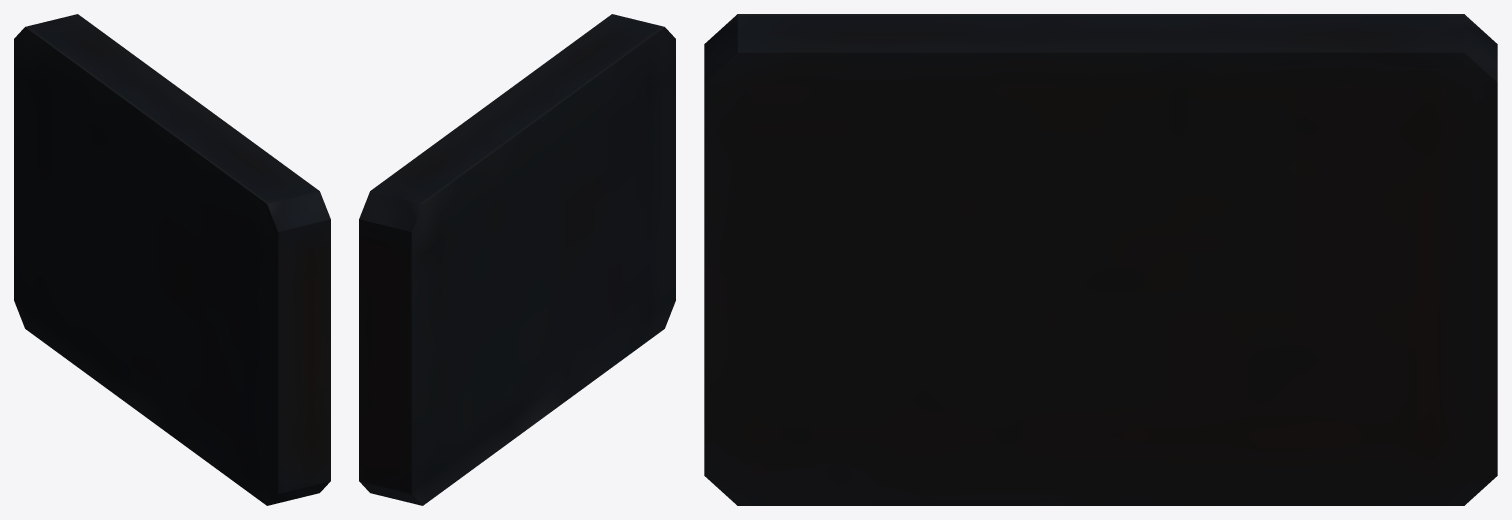
Rendered from Monitor.FBX.
The picture shows the model from 3 angles, left to right: view 1: azimuth 30°, elevation 25°; view 2: azimuth 150°, elevation 25°; view 3: azimuth 270°, elevation 25°; orthographic projection. The views are drawn at different scales.
Parts seen in each view (by area): view 1: Monitor; view 2: Monitor; view 3: Monitor.
Boxes of the visible parts, x1,y1,x2,y2 form: Monitor: [14, 14, 330, 505]; Monitor: [359, 14, 675, 505]; Monitor: [704, 14, 1497, 505].
Size of the model in its own units: 7.04 by 38.55 by 61.12.
